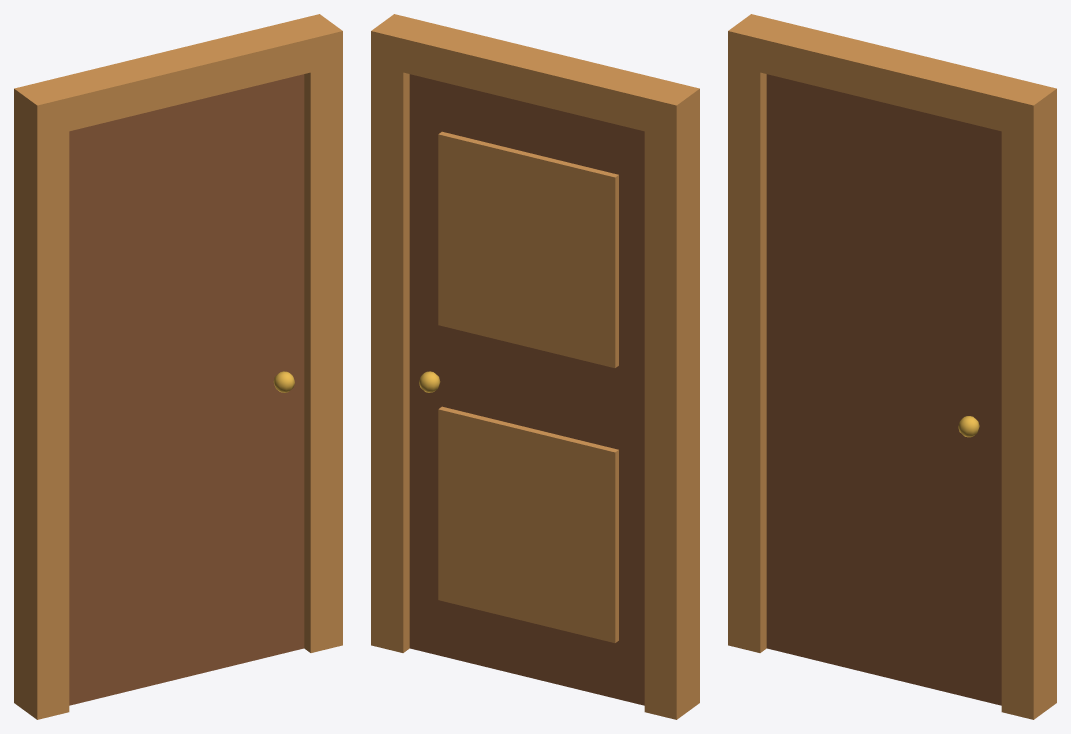
File: door.gltf
3 renders of one model, left to right at view 1: azimuth 30°, elevation 25°; view 2: azimuth 150°, elevation 25°; view 3: azimuth 330°, elevation 25°, orthographic.
Visible parts, largest first — view 1: Door + frame; view 2: Door + frame; view 3: Door + frame.
Boxes of the visible parts, <box> form: Door + frame: <box>14,14,342,719</box>; Door + frame: <box>371,14,699,719</box>; Door + frame: <box>728,14,1056,719</box>.
Size of the model in its own units: 1.14 by 2.19 by 0.2566.
